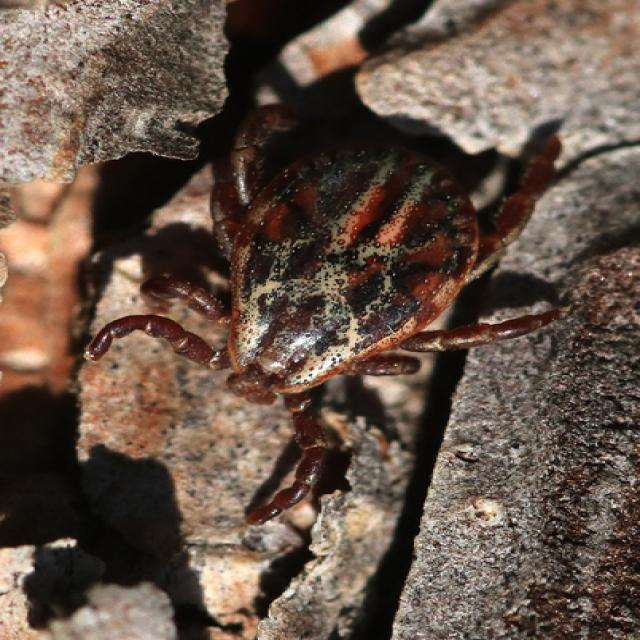Dermacentor Reticulatus-M: (86, 106, 562, 525)
